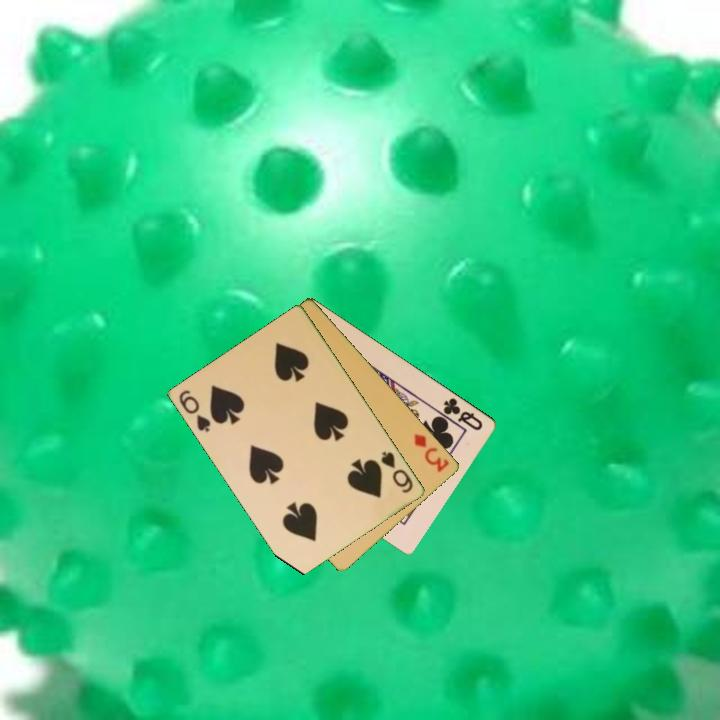3d: (411, 430, 453, 475)
6s: (176, 386, 214, 435), (378, 448, 416, 496)
Qc: (440, 394, 486, 433)
